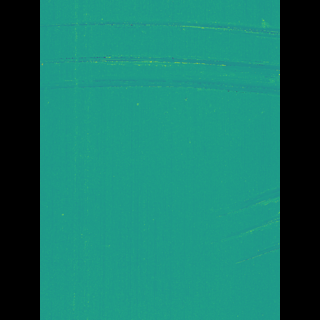Loch: (68, 11, 250, 102), (188, 180, 250, 269)
